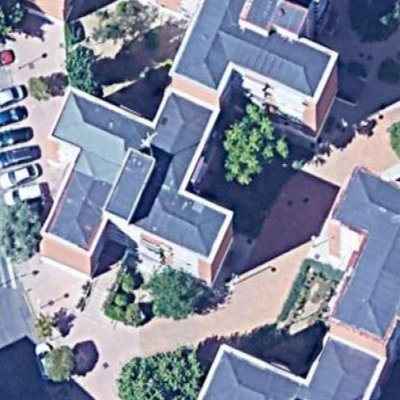tree: (218, 97, 294, 195), (116, 345, 197, 400), (146, 262, 207, 326), (2, 197, 51, 268), (61, 44, 107, 99), (44, 342, 80, 387)
